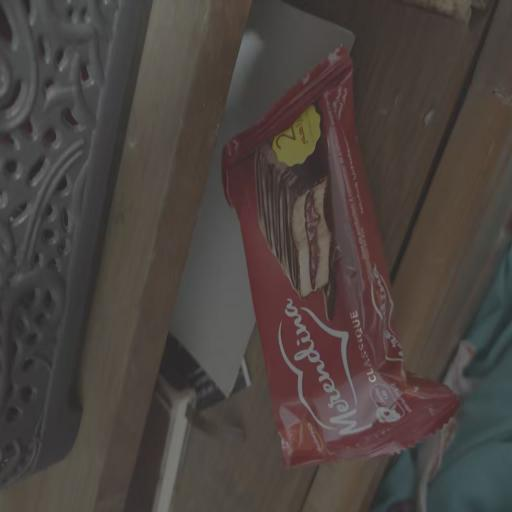merendina: (194, 44, 491, 483)
